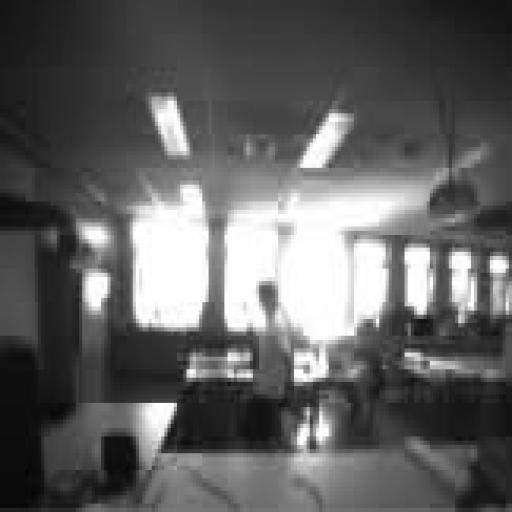human: (244, 282, 293, 444), (343, 313, 390, 447)
